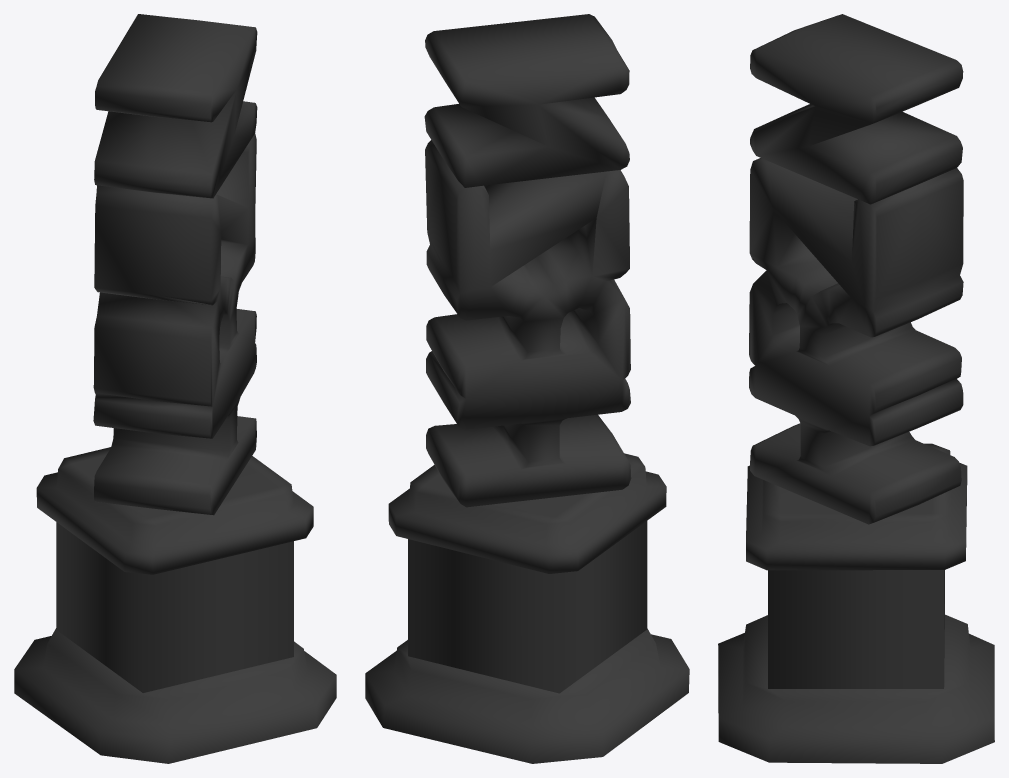
File: horizon_statue.obj
3 views of the same model, side by side, from view 1: azimuth 30°, elevation 25°; view 2: azimuth 150°, elevation 25°; view 3: azimuth 270°, elevation 25° (orthographic).
Parts seen in each view (by area): view 1: statue_low_poly_Text; view 2: statue_low_poly_Text; view 3: statue_low_poly_Text.
Part boxes in pixels (box(x1,y1,x2,y2)): statue_low_poly_Text: box(14, 14, 336, 763); statue_low_poly_Text: box(365, 14, 689, 763); statue_low_poly_Text: box(718, 14, 994, 763).
Size of the model in its own units: 1.11 by 2.89 by 1.11.
Materials: 1 (1 with a texture image).
